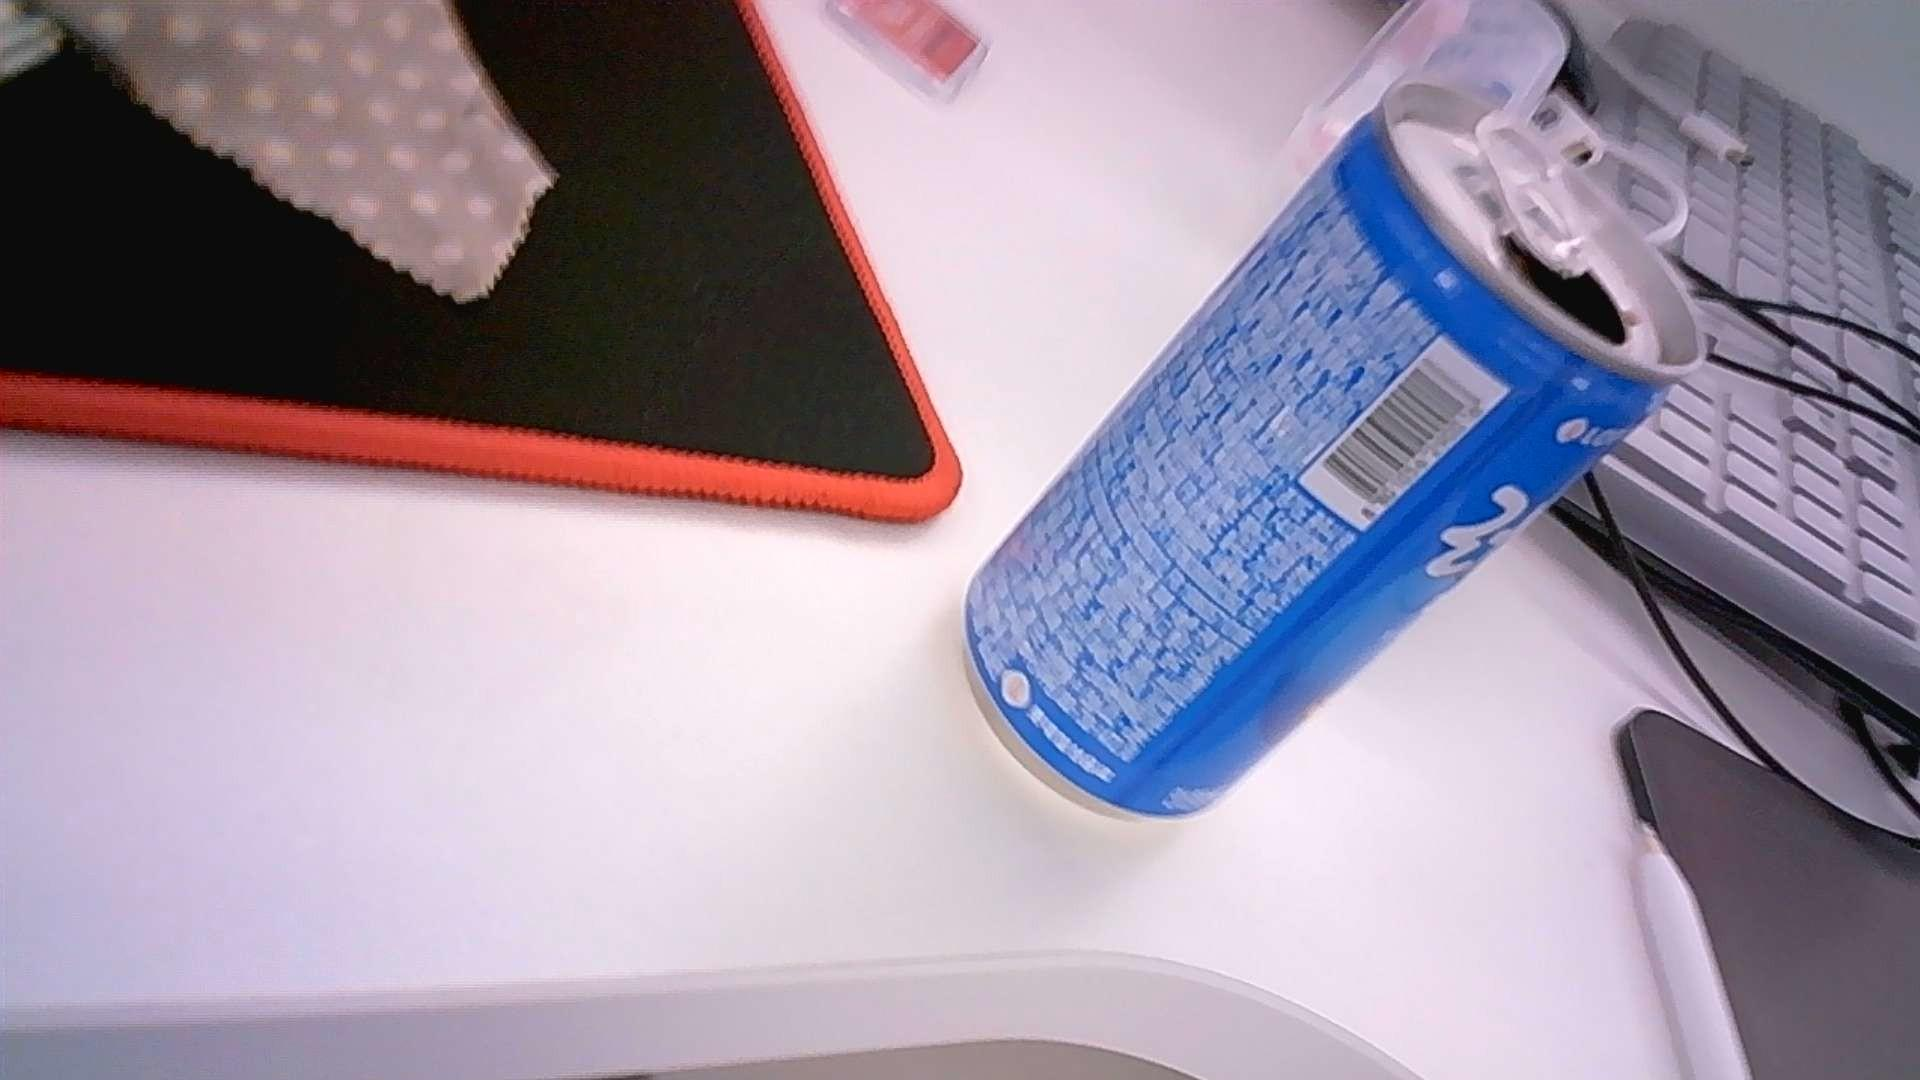letsbe: (957, 74, 1706, 823)
